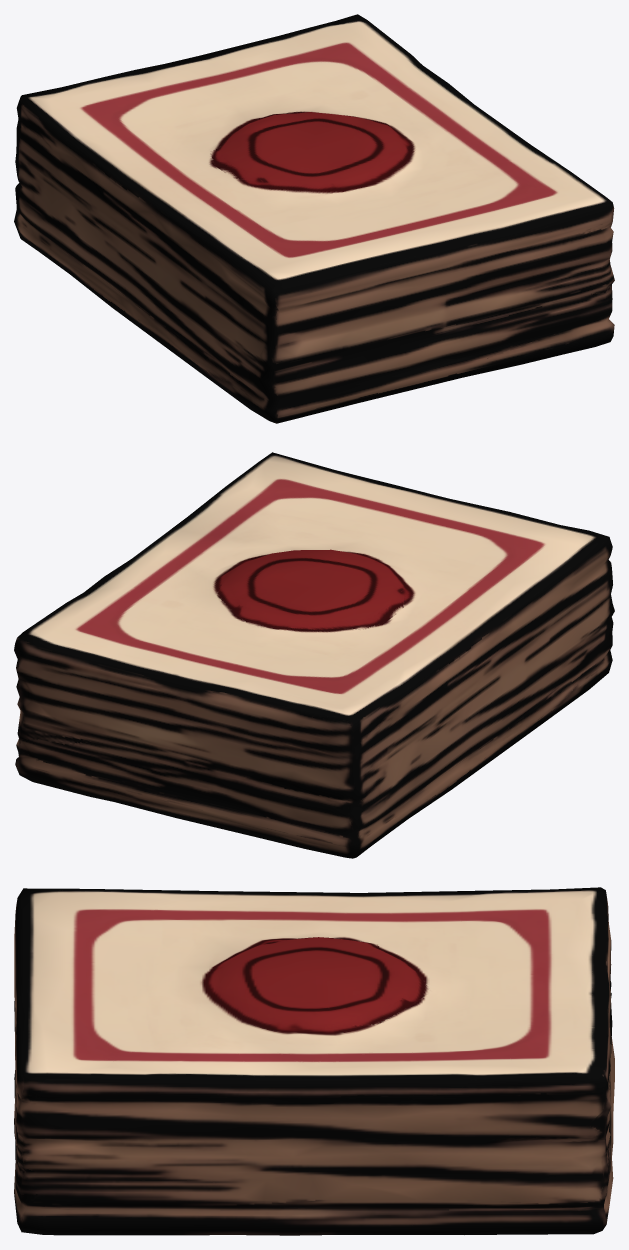
The model's file is loot-bond.glb.
3 views of the same model, one above another, from view 1: azimuth 30°, elevation 25°; view 2: azimuth 150°, elevation 25°; view 3: azimuth 270°, elevation 25° (orthographic). The views are drawn at different scales.
Visible parts, largest first — view 1: geometry_0.001; view 2: geometry_0.001; view 3: geometry_0.001.
Part boxes in pixels (left/top/right/bottom): geometry_0.001: left=14, top=14, right=614, bottom=423; geometry_0.001: left=14, top=452, right=614, bottom=858; geometry_0.001: left=14, top=887, right=614, bottom=1235.
Size of the model in its own units: 0.7641 by 0.3043 by 0.9995.
1 material, 1 textured.
